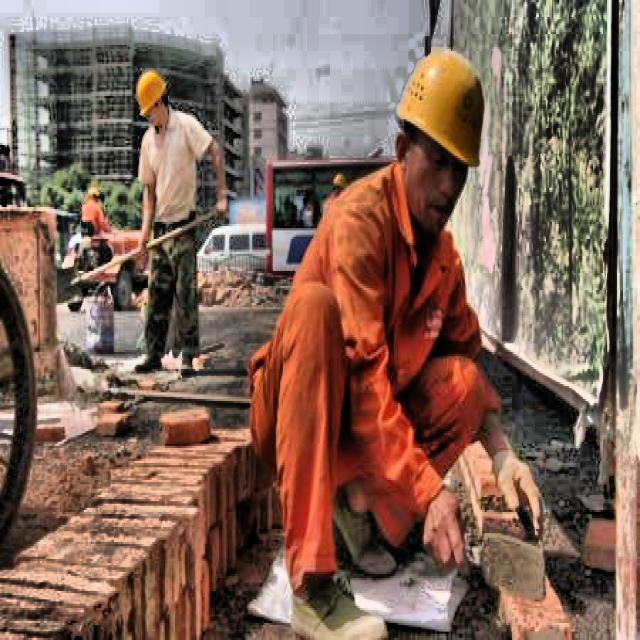helmet: (386, 36, 496, 235), (134, 66, 170, 124)
